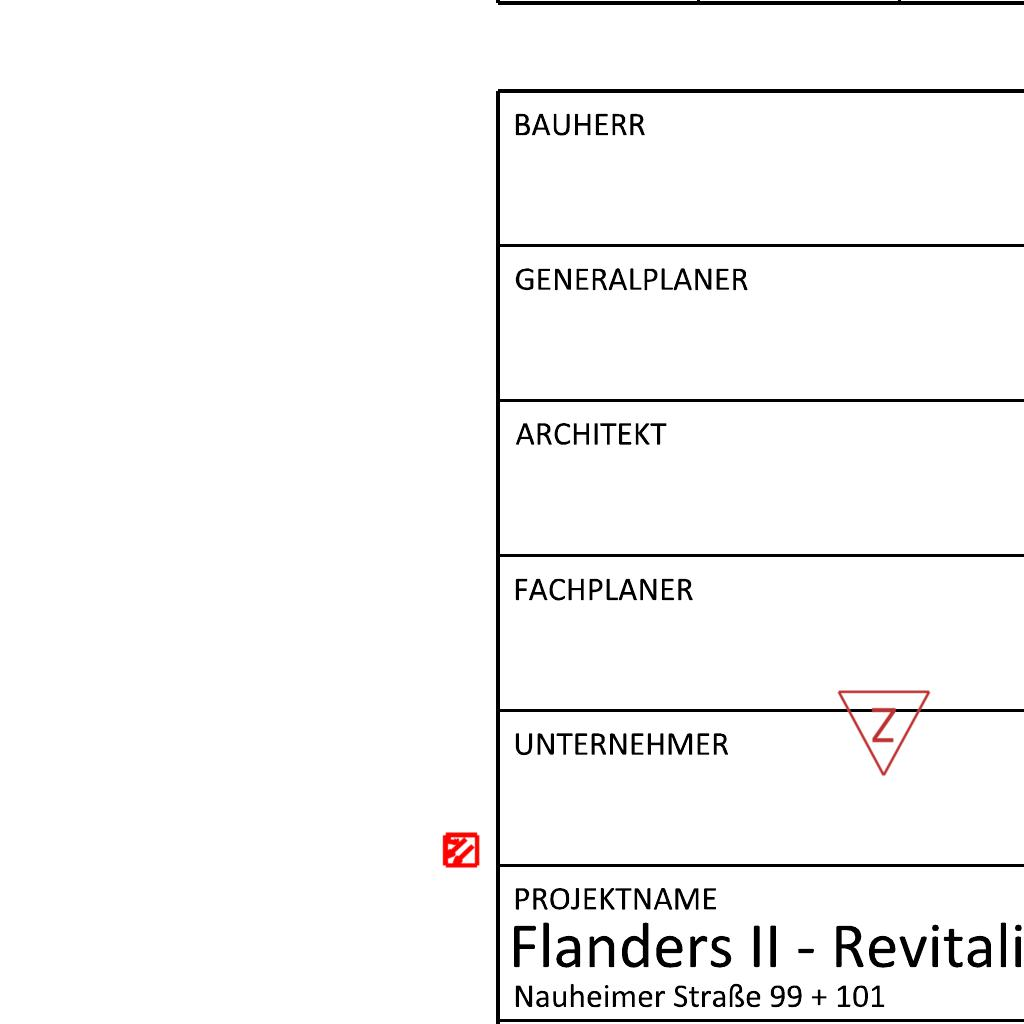OT_Multisensormelder_(Kombination_RMO_WMD): (432, 822, 488, 878)
Zimmersignalleuchte: (836, 683, 934, 783)
